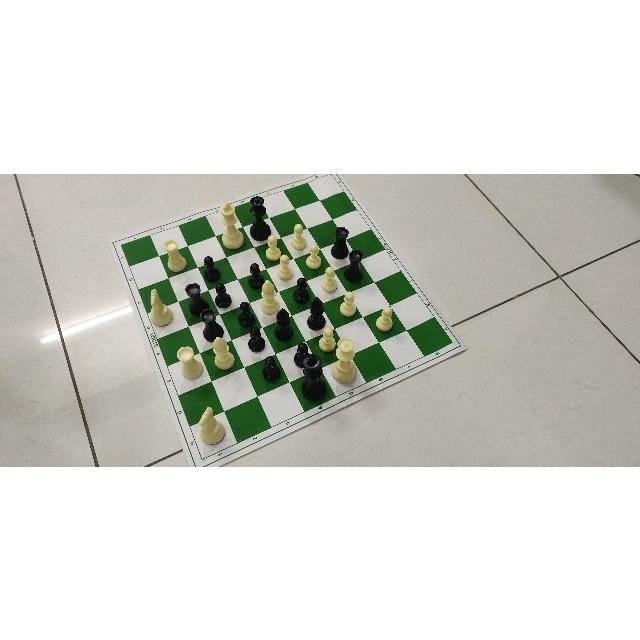black-bishop: (274, 309, 293, 341), (309, 296, 325, 329)
black-king: (302, 352, 327, 400)
black-pawn: (240, 300, 258, 327), (264, 354, 282, 381), (215, 282, 231, 310), (204, 254, 220, 281), (293, 275, 308, 301), (250, 327, 265, 351), (246, 261, 261, 284), (296, 338, 310, 355)
black-queen: (250, 196, 271, 240)
black-rook: (184, 281, 209, 316), (202, 309, 222, 339), (345, 250, 362, 280), (332, 227, 348, 257)
white-bishop: (213, 335, 235, 368), (262, 280, 277, 315)
white-king: (222, 202, 244, 248)
white-knight: (198, 405, 226, 444), (147, 288, 173, 325)
white-pawn: (375, 306, 393, 334), (341, 287, 356, 317), (279, 253, 295, 281), (318, 325, 334, 351), (307, 241, 321, 270), (294, 221, 306, 249), (266, 234, 280, 257), (326, 265, 336, 293)
white-queen: (333, 335, 356, 383)
white-rook: (177, 346, 202, 378), (165, 239, 187, 270)
